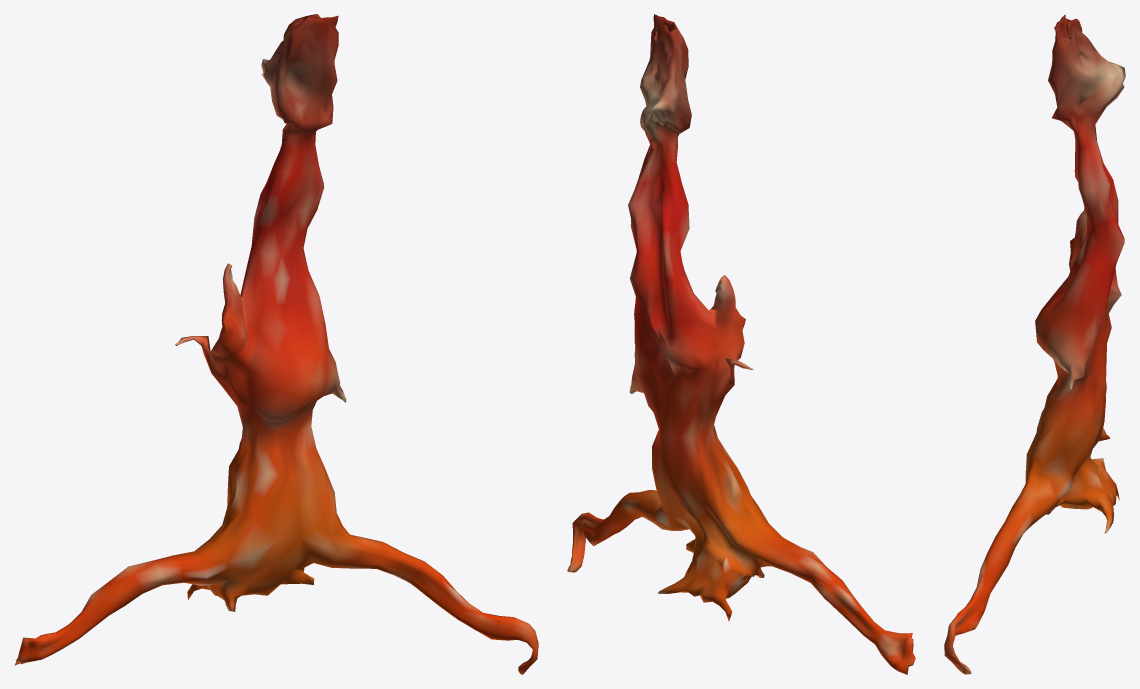
Rendered from crucifix AR test.fbx.
3 views of the same model, side by side, from view 1: azimuth 30°, elevation 25°; view 2: azimuth 150°, elevation 25°; view 3: azimuth 270°, elevation 25° (orthographic). The views are drawn at different scales.
Visible parts, largest first — view 1: crucifix_low_poly_04; view 2: crucifix_low_poly_04; view 3: crucifix_low_poly_04.
Part boxes in pixels (box(x1,y1,x2,y2)): crucifix_low_poly_04: box(14, 14, 538, 674); crucifix_low_poly_04: box(567, 14, 915, 674); crucifix_low_poly_04: box(944, 14, 1125, 674).
Size of the model in its own units: 224 by 321 by 89.42.
